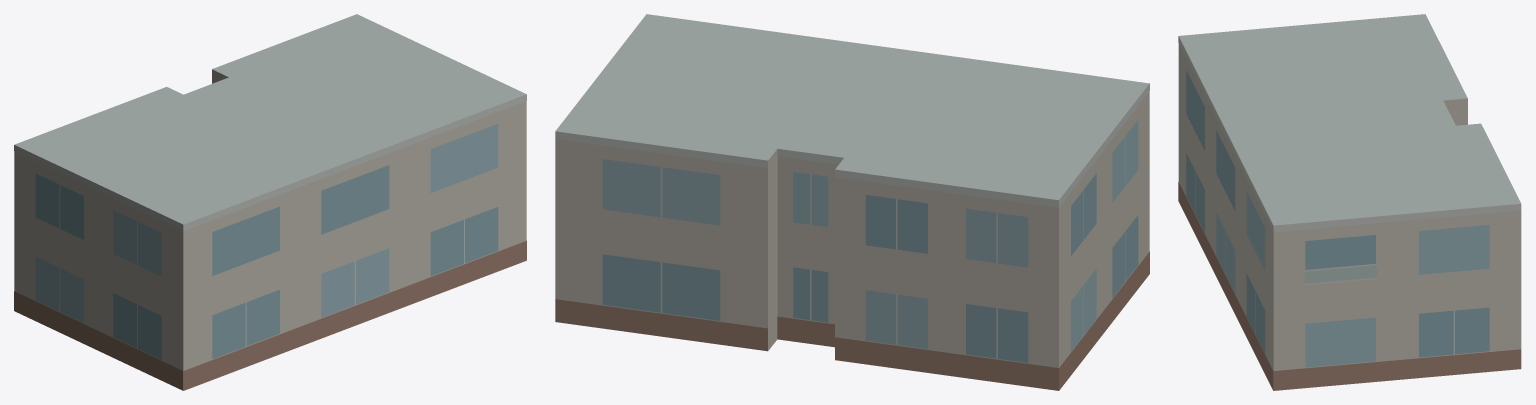
The model's file is survey-upis-32696797.glb.
3 views of the same model, side by side, from view 1: azimuth 30°, elevation 25°; view 2: azimuth 150°, elevation 25°; view 3: azimuth 270°, elevation 25° (orthographic). The views are drawn at different scales.
Visible parts, largest first — view 1: survey-upis-32696797.tmp; view 2: survey-upis-32696797.tmp; view 3: survey-upis-32696797.tmp.
Boxes of the visible parts, box(x1,y1,x2,y2) form: survey-upis-32696797.tmp: box(14, 14, 526, 390); survey-upis-32696797.tmp: box(555, 14, 1149, 390); survey-upis-32696797.tmp: box(1178, 14, 1521, 390).
Bounding box in the file's own units: 16.76 × 6.1 × 11.48.
